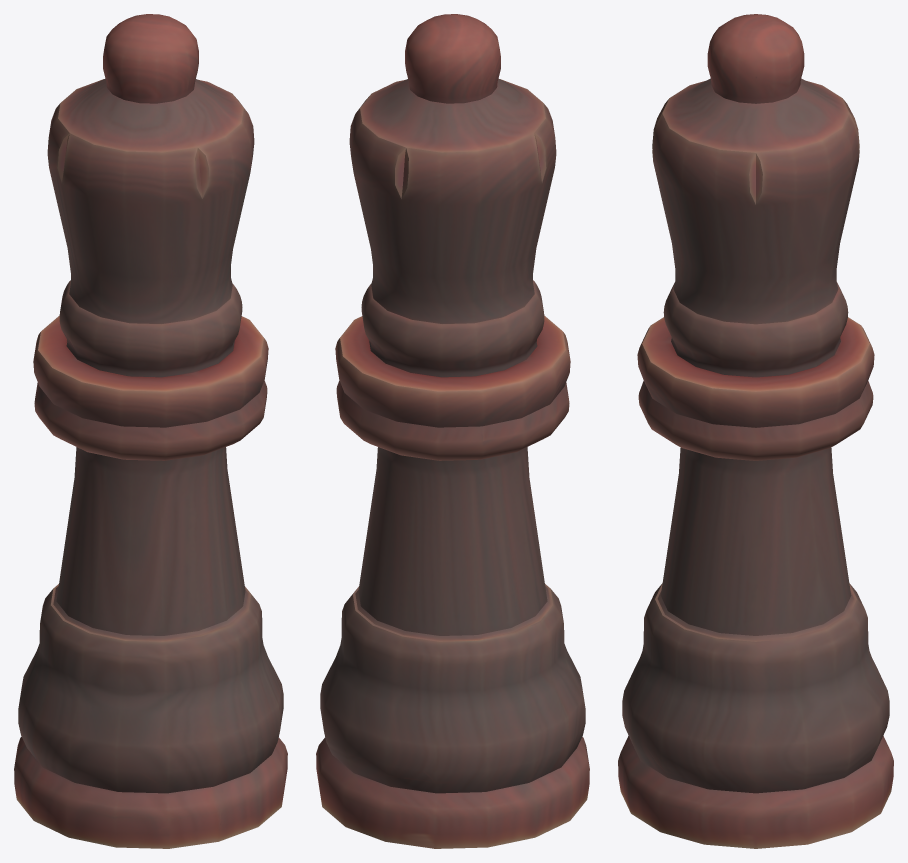
File: Ферзь.fbx
3 views of the same model, side by side, from view 1: azimuth 30°, elevation 25°; view 2: azimuth 150°, elevation 25°; view 3: azimuth 270°, elevation 25° (orthographic).
Visible parts, largest first — view 1: Ферзь белый; view 2: Ферзь белый; view 3: Ферзь белый.
Boxes of the visible parts, x1,y1,x2,y2 form: Ферзь белый: (14, 14, 287, 848); Ферзь белый: (316, 14, 589, 848); Ферзь белый: (618, 14, 893, 848).
Bounding box in the file's own units: 194 × 600 × 194.
1 material, 1 textured.
